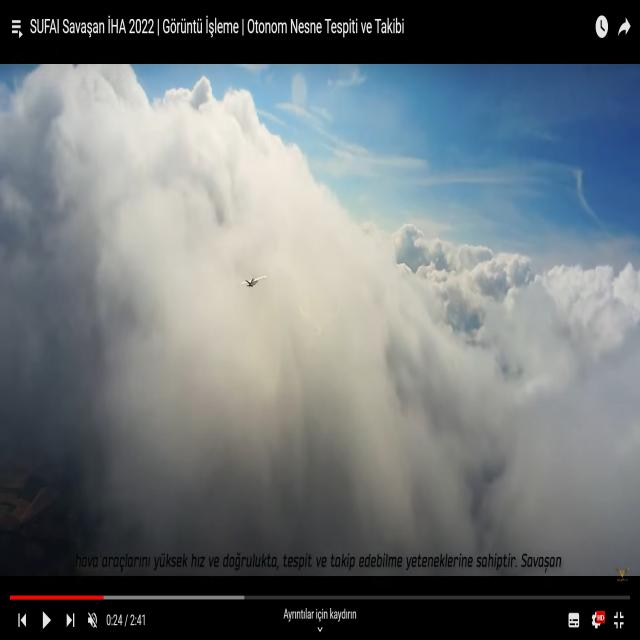iha: (240, 274, 267, 290)
